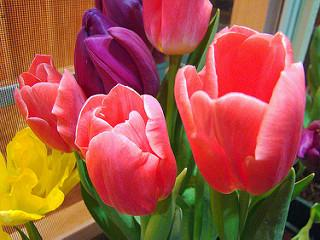tulip: (177, 23, 304, 193), (78, 83, 176, 212), (0, 129, 83, 227), (16, 54, 93, 151), (123, 97, 123, 97)
